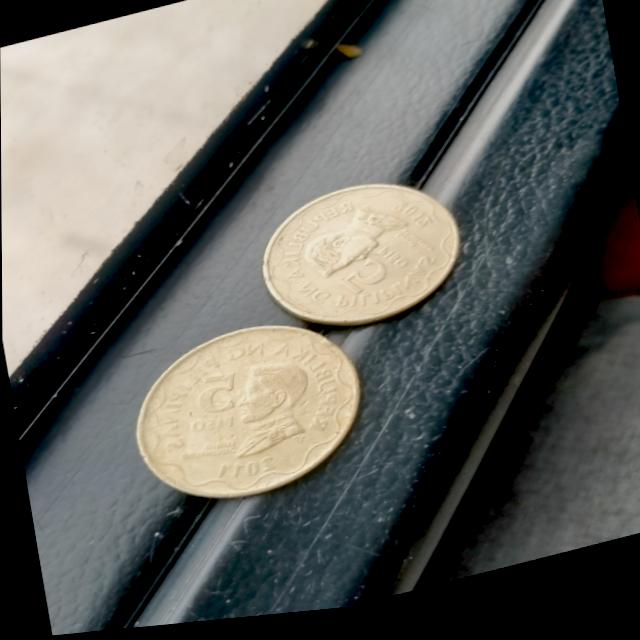5_Old_Front: (169, 358, 253, 457), (332, 239, 425, 312)
